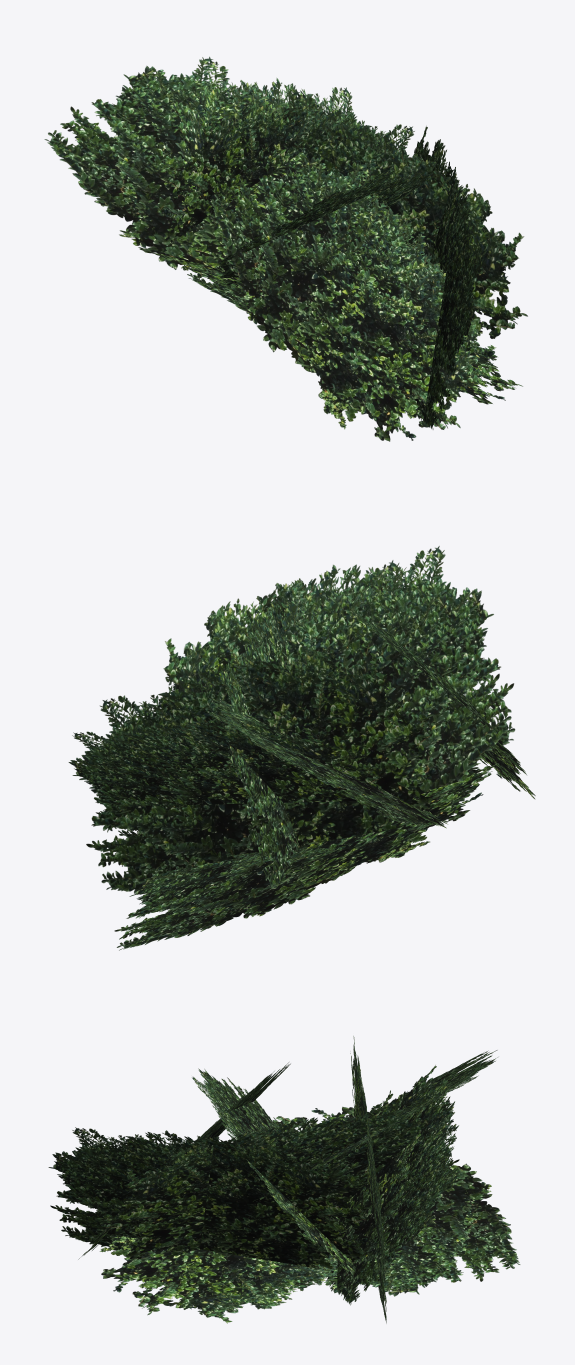
File: trees_and_bush_pack_bush_med.glb
3 renders of one model, top to bottom at view 1: azimuth 30°, elevation 25°; view 2: azimuth 150°, elevation 25°; view 3: azimuth 270°, elevation 25°, orthographic. The views are drawn at different scales.
Parts seen in each view (by area): view 1: BushMed; view 2: BushMed; view 3: BushMed.
Boxes of the visible parts, bbox=[...] form: BushMed: bbox=[44, 56, 527, 441]; BushMed: bbox=[68, 546, 535, 950]; BushMed: bbox=[48, 1036, 520, 1323].
Size of the model in its own units: 1.84 by 1.35 by 2.58.
Materials: 1 (1 with a texture image).
